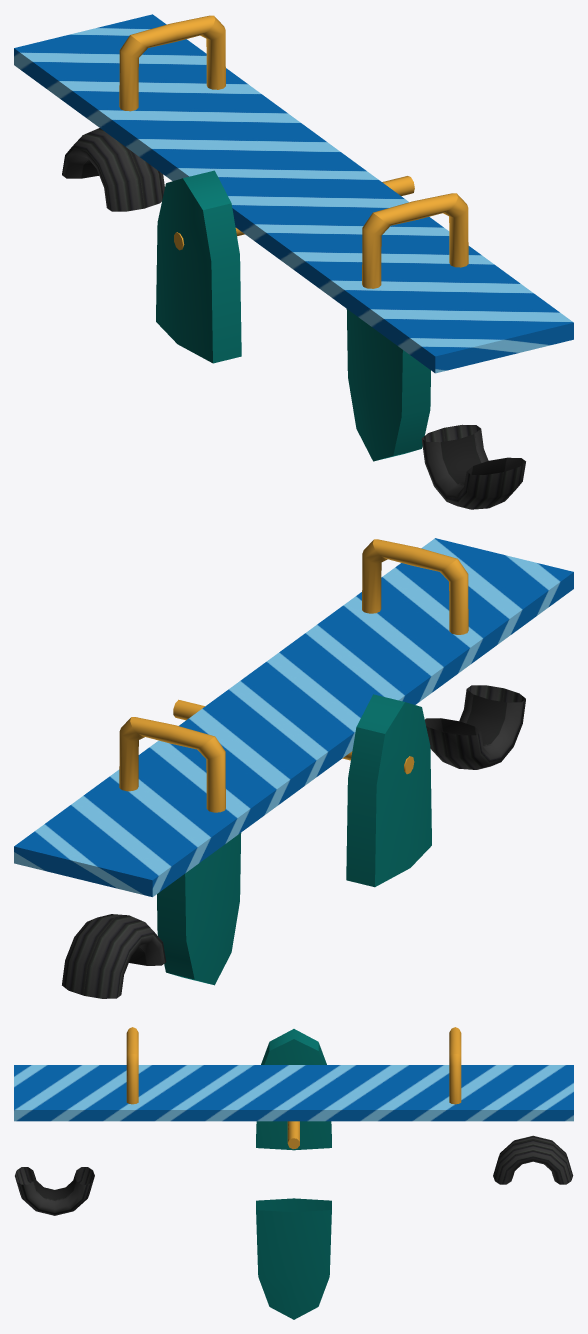
File: seesaw.FBX
3 renders of one model, top to bottom at view 1: azimuth 30°, elevation 25°; view 2: azimuth 150°, elevation 25°; view 3: azimuth 270°, elevation 25°, orthographic. The views are drawn at different scales.
Parts seen in each view (by area): view 1: Box003, Box001, Box002, Torus002, Torus001, Cylinder001; view 2: Box003, Box001, Box002, Torus001, Torus002, Cylinder001; view 3: Box003, Box002, Box001, Torus001, Torus002.
Boxes of the visible parts, x1,y1,x2,y2 form: Box003: [14, 14, 573, 373]; Box001: [156, 170, 241, 363]; Box002: [346, 309, 430, 461]; Torus002: [421, 424, 525, 509]; Torus001: [62, 128, 164, 211]; Cylinder001: [174, 176, 414, 250]; Box003: [14, 538, 573, 897]; Box001: [346, 694, 431, 887]; Box002: [157, 833, 241, 985]; Torus001: [62, 914, 166, 998]; Torus002: [425, 685, 525, 769]; Cylinder001: [173, 699, 414, 774]; Box003: [14, 1027, 573, 1121]; Box002: [256, 1198, 331, 1319]; Box001: [256, 1029, 331, 1150]; Torus001: [493, 1135, 573, 1184]; Torus002: [15, 1167, 94, 1215].
Bounding box in the file's own units: 48.94 × 73.86 × 153.
